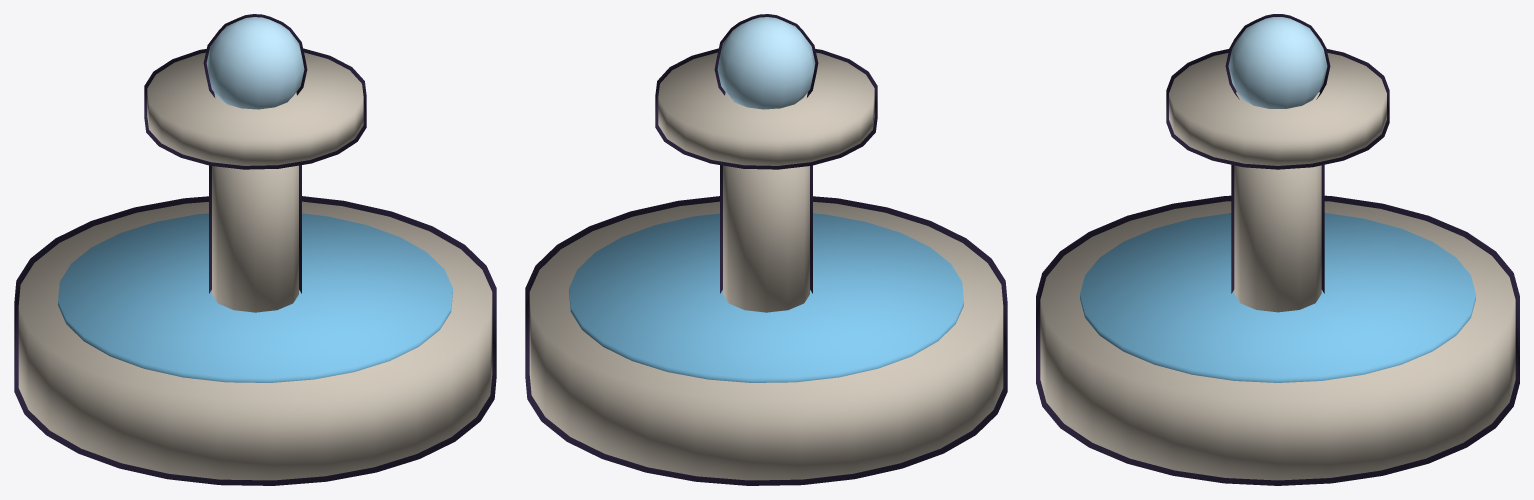
Rendered from deco_fountain.glb.
The picture shows the model from 3 angles, left to right: view 1: azimuth 30°, elevation 25°; view 2: azimuth 150°, elevation 25°; view 3: azimuth 270°, elevation 25°; orthographic projection.
Visible parts, largest first — view 1: basin, water, bowl, column, jet; view 2: basin, water, bowl, column, jet; view 3: basin, water, bowl, column, jet.
Part boxes in pixels (x1,y1,x2,y2): basin: (14,196,496,485); water: (58,213,452,382); bowl: (144,48,366,169); column: (209,165,301,312); jet: (203,14,307,109); basin: (525,196,1007,485); water: (569,213,963,382); bowl: (655,48,877,169); column: (720,165,812,312); jet: (714,14,818,109); basin: (1036,195,1519,485); water: (1080,213,1475,382); bowl: (1166,49,1389,169); column: (1231,165,1324,312); jet: (1225,14,1330,108).
Bounding box in the file's own units: 2.44 × 2.05 × 2.44.
